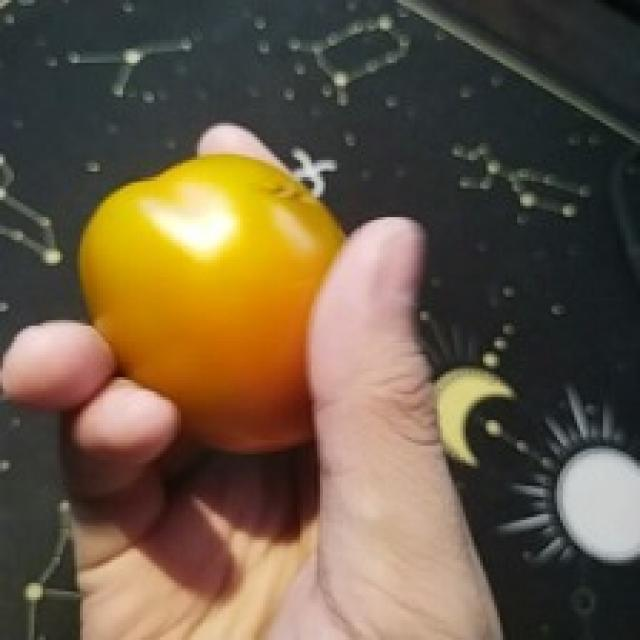tomato: (74, 157, 346, 457)
